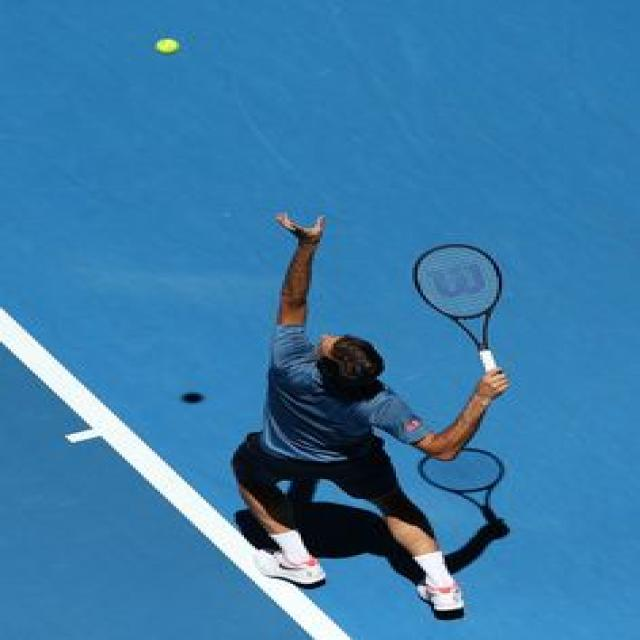tennis: (148, 39, 184, 56)
